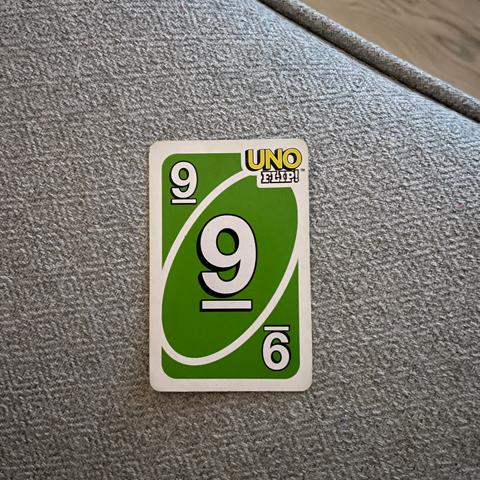2_red: (191, 217, 265, 314), (258, 320, 295, 374), (166, 156, 201, 208)
